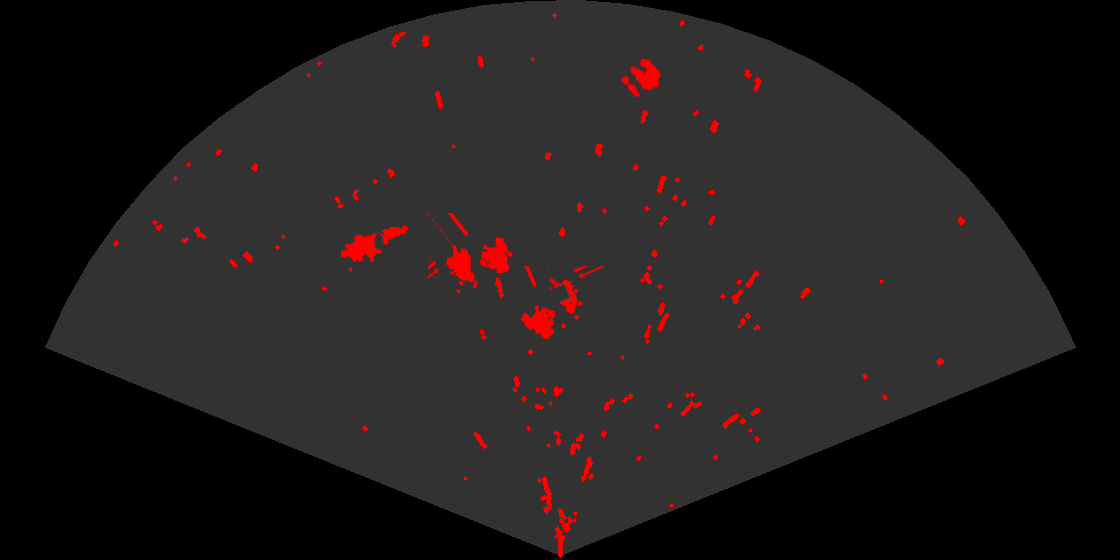ball: (620, 57, 663, 99)
cage: (428, 213, 511, 290), (519, 266, 604, 341)
frogman: (341, 224, 409, 264)
